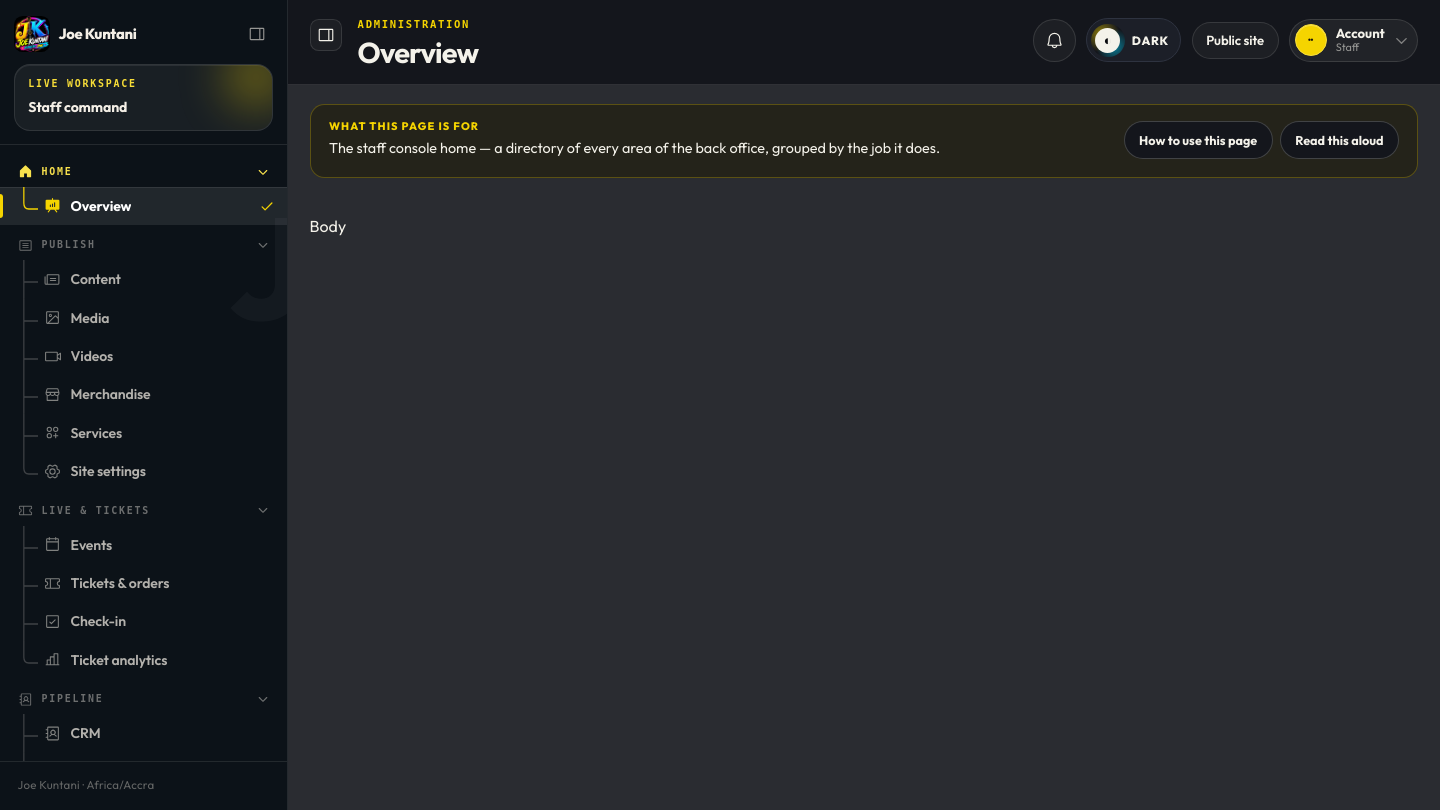
Test: AdminShell › replays the guided tour from the account menu
The width and height of the screenshot is (1440, 810).
Click the button "·· Account Staff".
click(1354, 40)  # box [1289,19,1418,62]
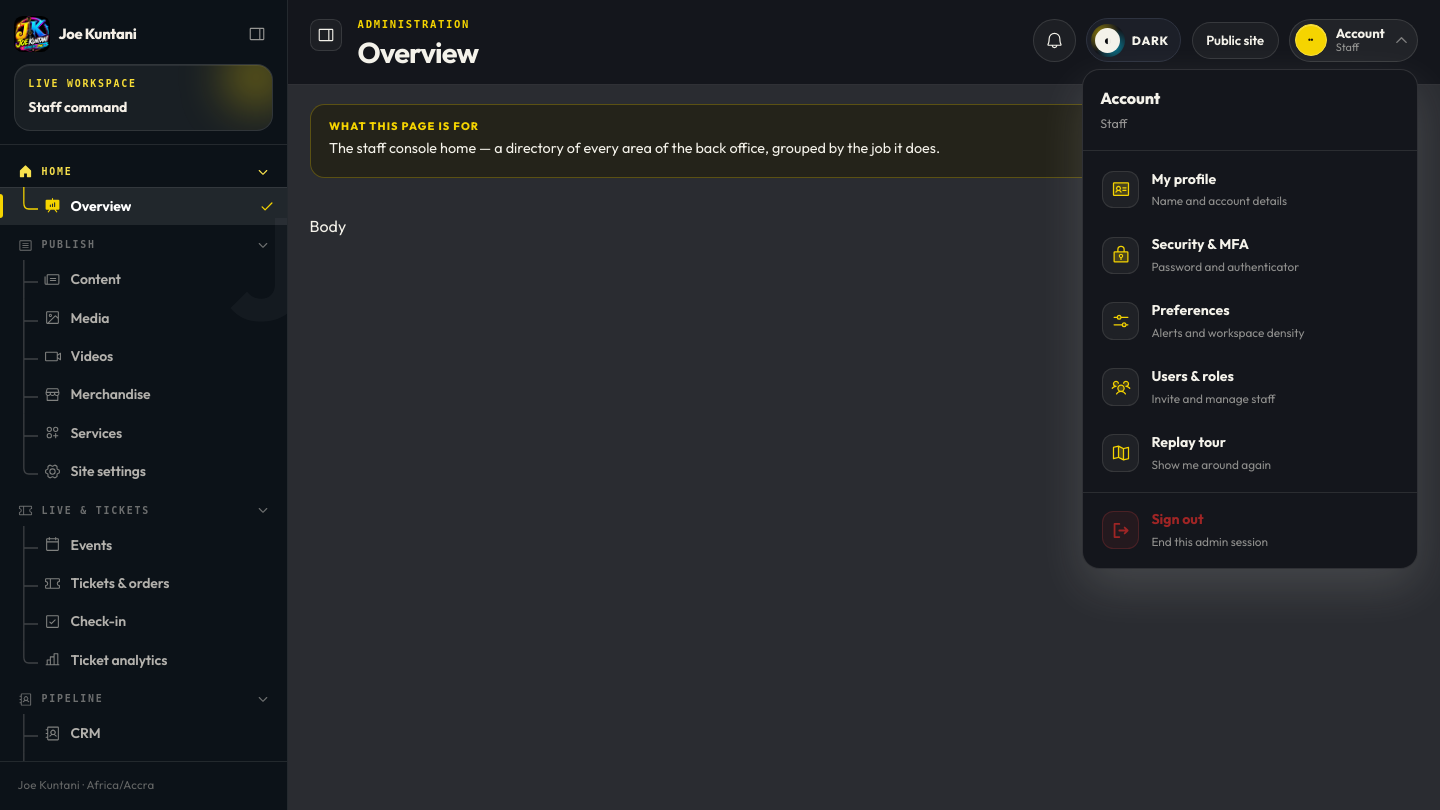
Click the menu item "Replay tour Show me around again".
click(1121, 453)  # box [1091,421,1410,485]
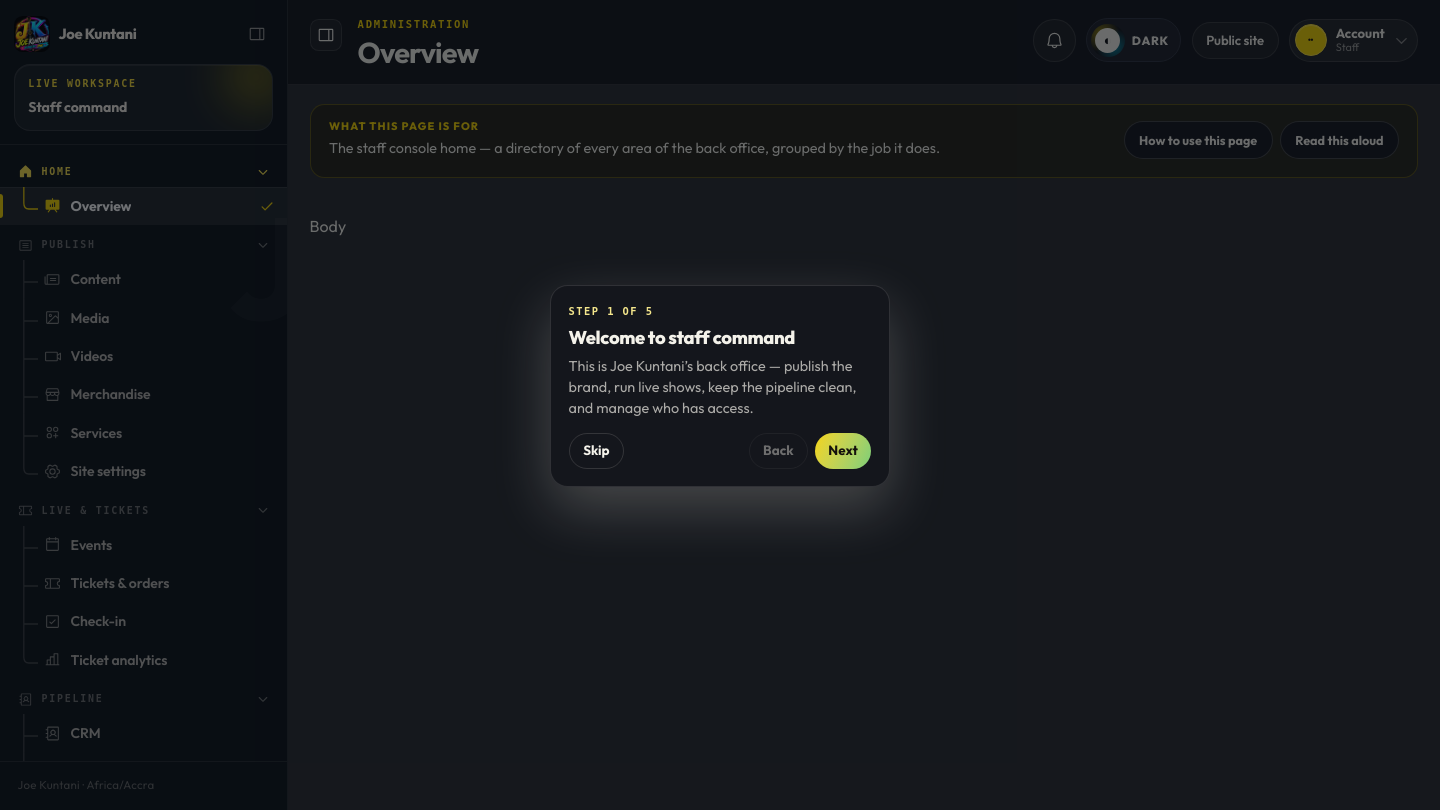
Result: the dialog named "Admin tour" is shown
